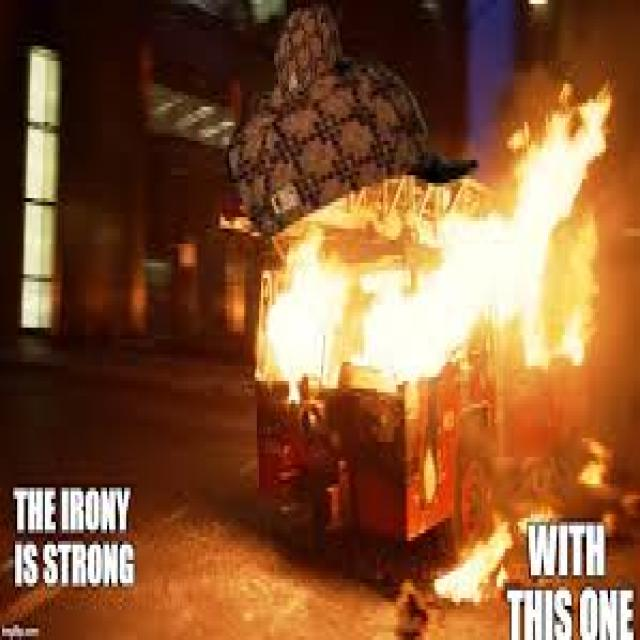Fire: (263, 167, 509, 394), (493, 84, 616, 401)
